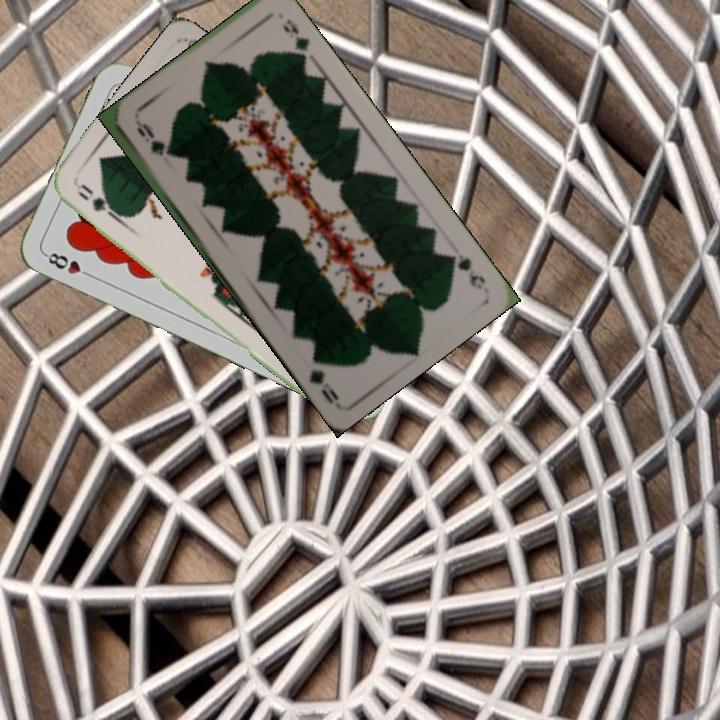G9: (442, 249, 488, 293), (132, 118, 167, 159)
GO: (73, 180, 125, 224)
H8: (40, 248, 96, 280)
